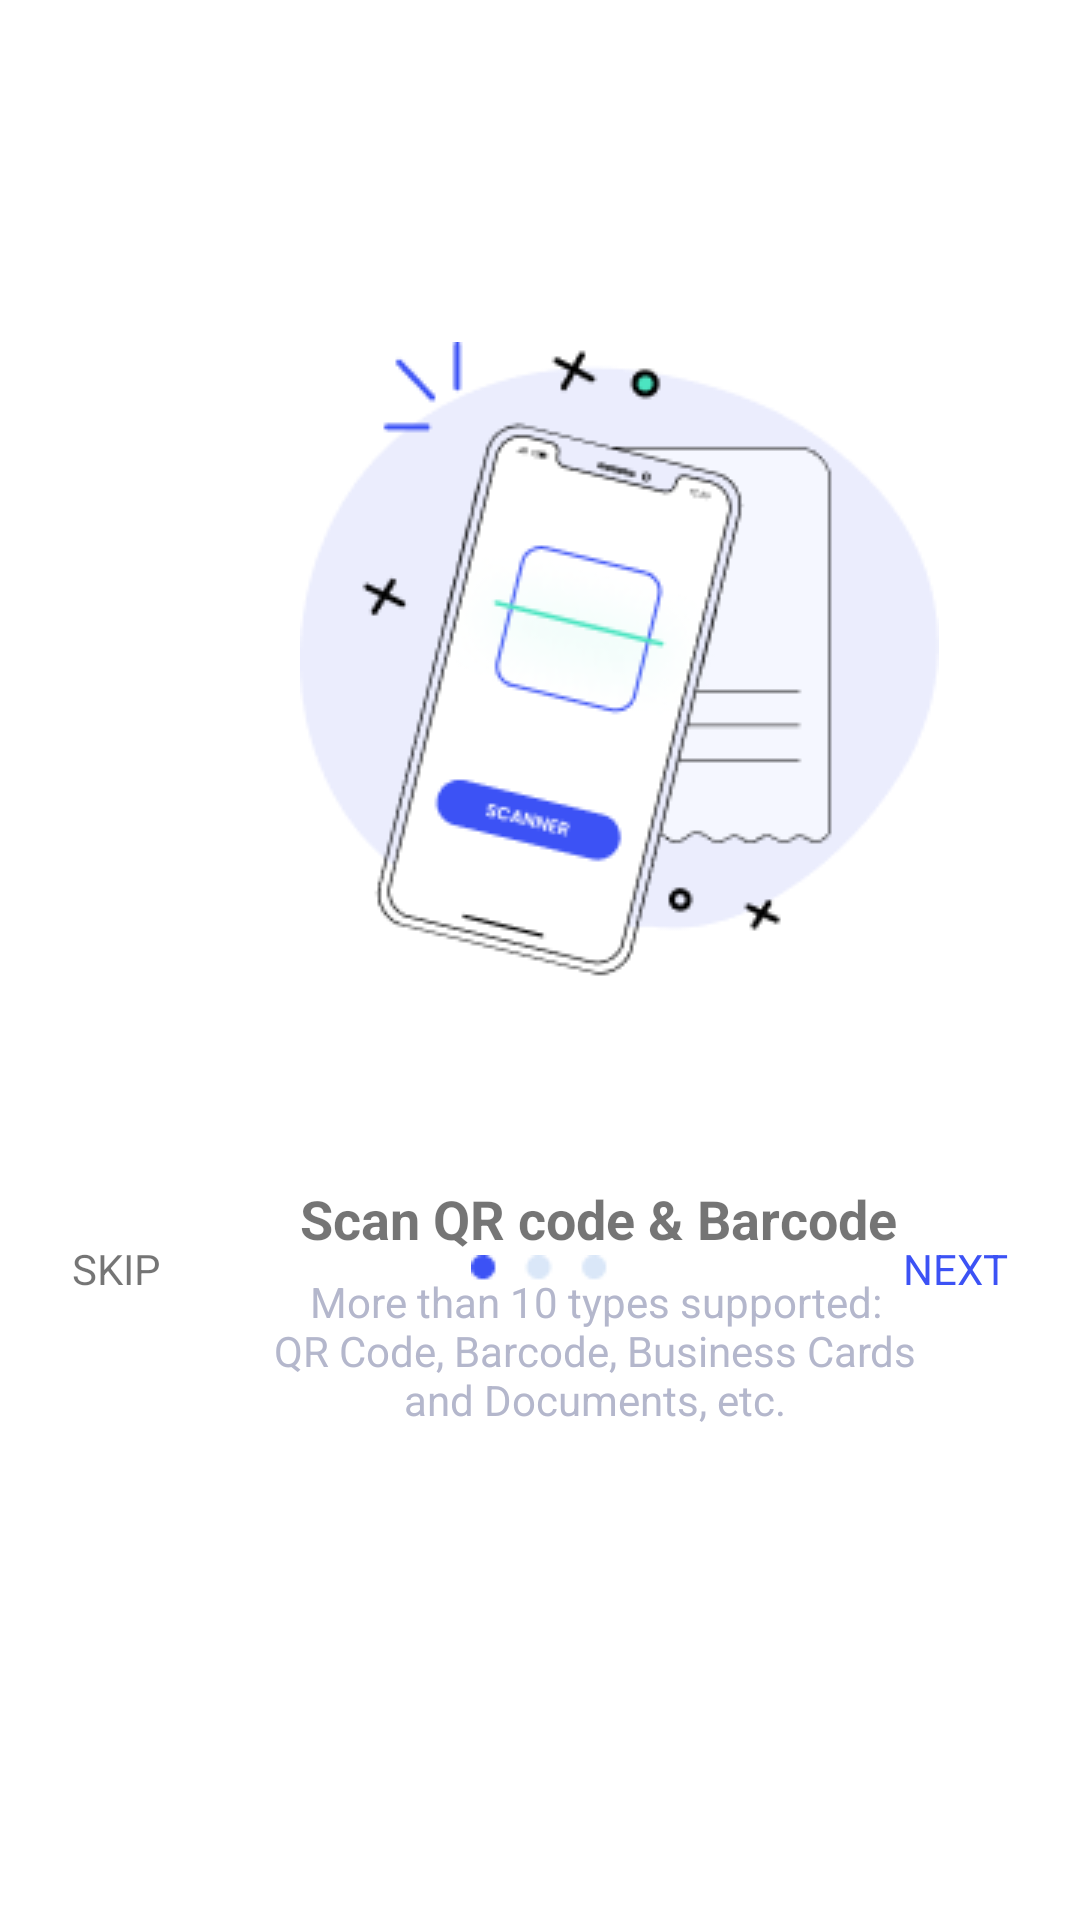

Point at icon controls on the screen. Image size 1080px×1920px, points as point (x, y).
dot onboard: point (538, 1267)
